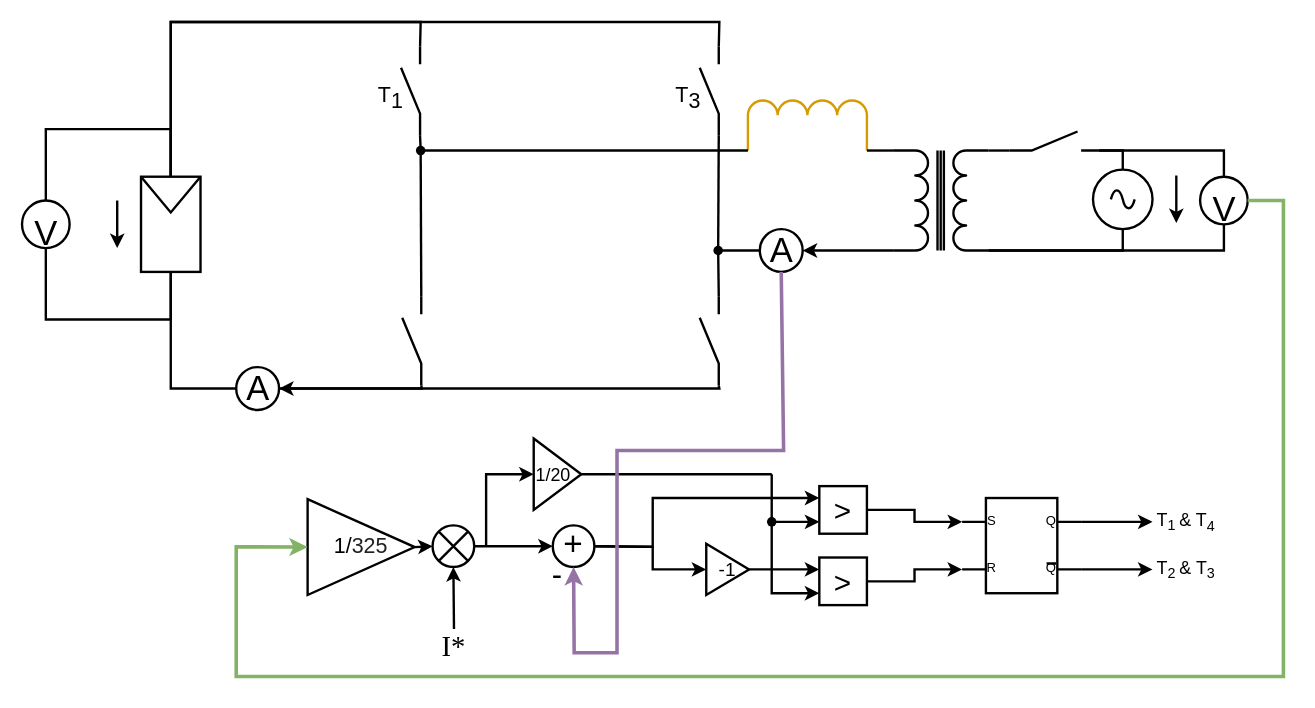
Some shapes in this 1315 by 708 pixel diagram are drawn without their labels. The centre of each missing label's shape, as x and y in pixels:
T 2: point 411,340
T 4: point 708,340
